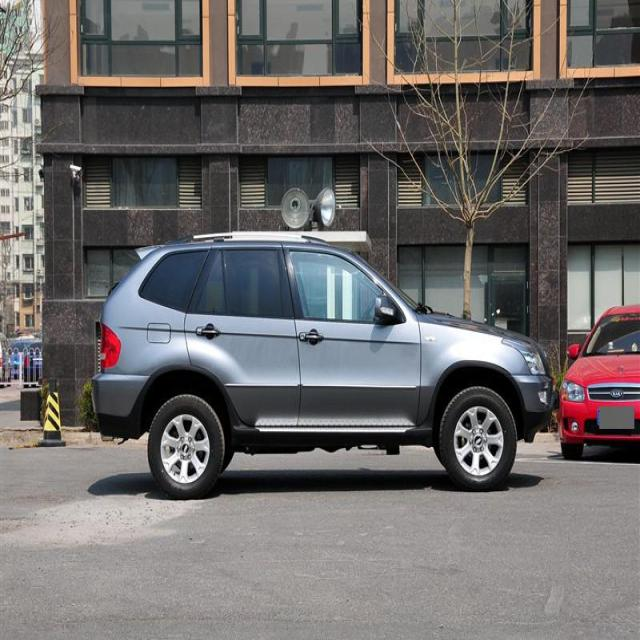back_right_side_light: (96, 322, 122, 370)
door: (195, 244, 306, 441)
front_bumper: (506, 372, 558, 442)
front_right_side_door: (282, 239, 423, 430)
front_right_side_light: (500, 332, 546, 377)
front_right_side_mirror: (373, 292, 398, 326)
rear_bumper: (90, 369, 150, 440)
wheel: (439, 386, 517, 492), (147, 394, 224, 498)
